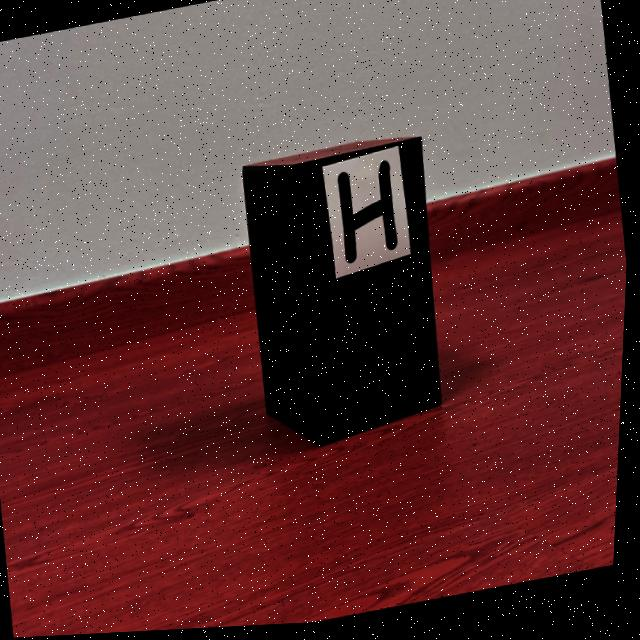H: (340, 165, 400, 267)
